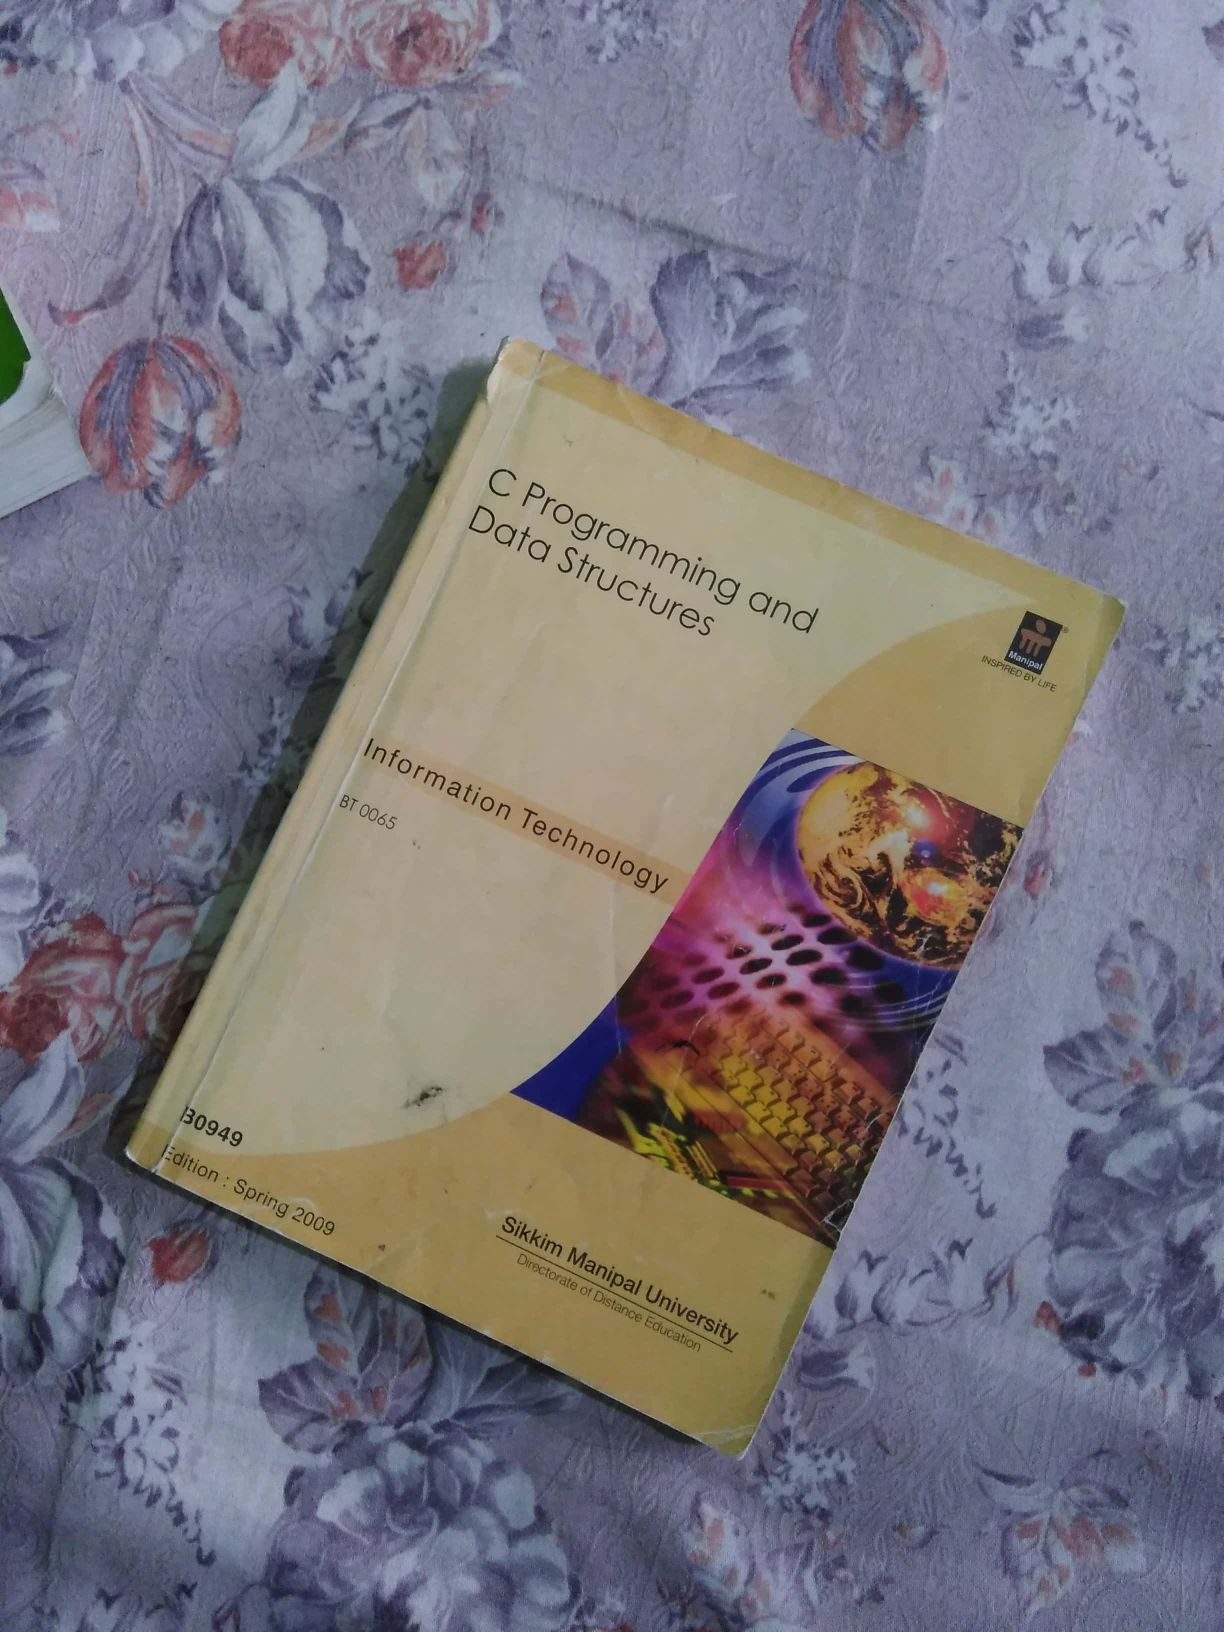clang: (244, 373, 1070, 1446)
